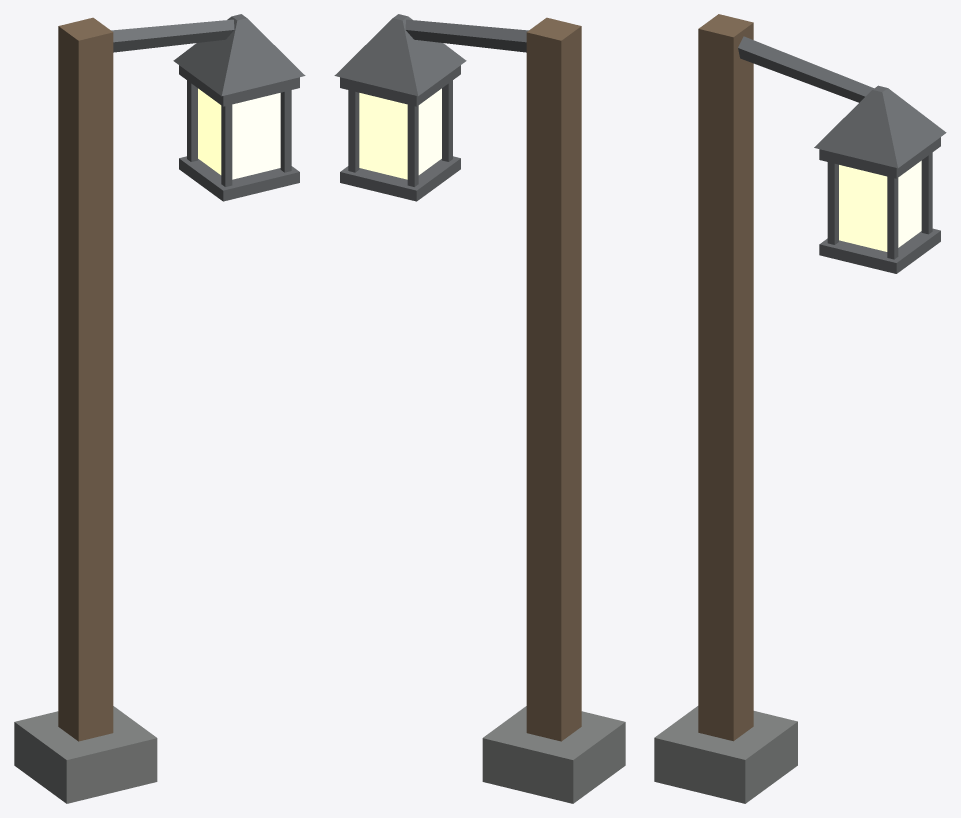
Rendered from lantern_post.glb.
3 views of the same model, side by side, from view 1: azimuth 30°, elevation 25°; view 2: azimuth 150°, elevation 25°; view 3: azimuth 330°, elevation 25° (orthographic).
Visible parts, largest first — view 1: lantern_post; view 2: lantern_post; view 3: lantern_post.
Part boxes in pixels (<box>): lantern_post: <box>14,14,305,803</box>; lantern_post: <box>334,14,625,803</box>; lantern_post: <box>654,14,946,803</box>.
Size of the model in its own units: 0.6902 by 2.04 by 0.26.
